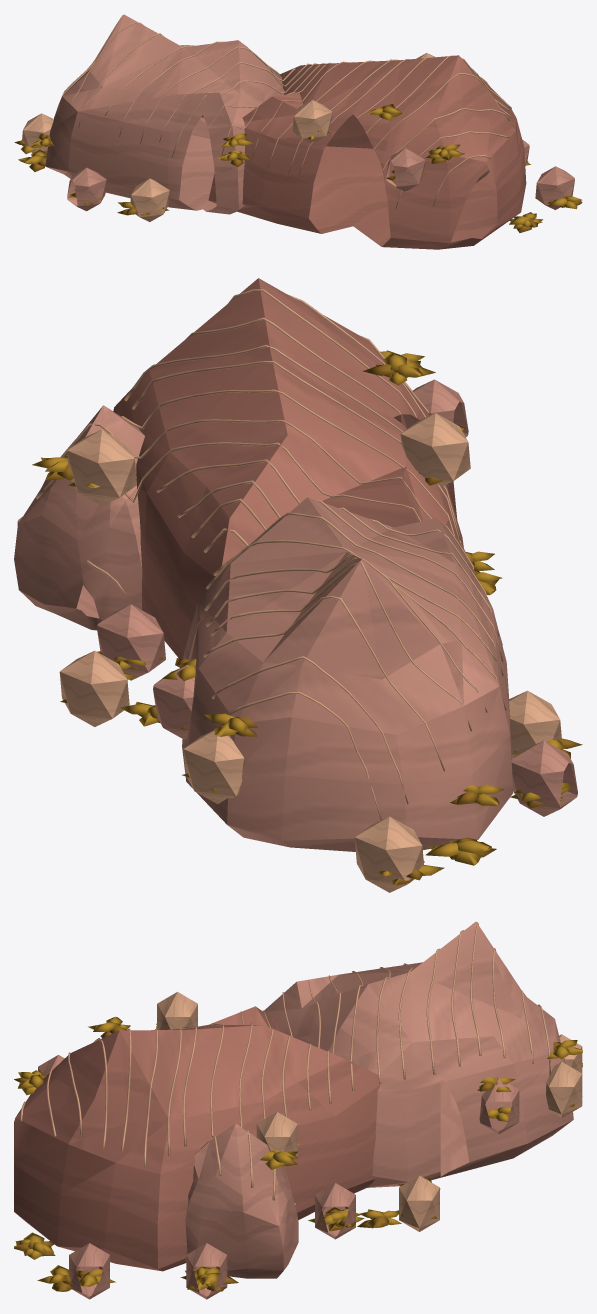
The model's file is PilotRidgeSE_2.fbx.
The picture shows the model from 3 angles, top to bottom: view 1: azimuth 30°, elevation 25°; view 2: azimuth 150°, elevation 25°; view 3: azimuth 270°, elevation 25°; orthographic projection. The views are drawn at different scales.
Parts seen in each view (by area): view 1: PilotRidgeSE_2__Geometry; view 2: PilotRidgeSE_2__Geometry; view 3: PilotRidgeSE_2__Geometry.
Part boxes in pixels (box(x1,y1,x2,y2)): PilotRidgeSE_2__Geometry: box(14, 14, 582, 249); PilotRidgeSE_2__Geometry: box(14, 278, 582, 892); PilotRidgeSE_2__Geometry: box(14, 921, 582, 1299).
Size of the model in its own units: 4 by 1.67 by 4.
